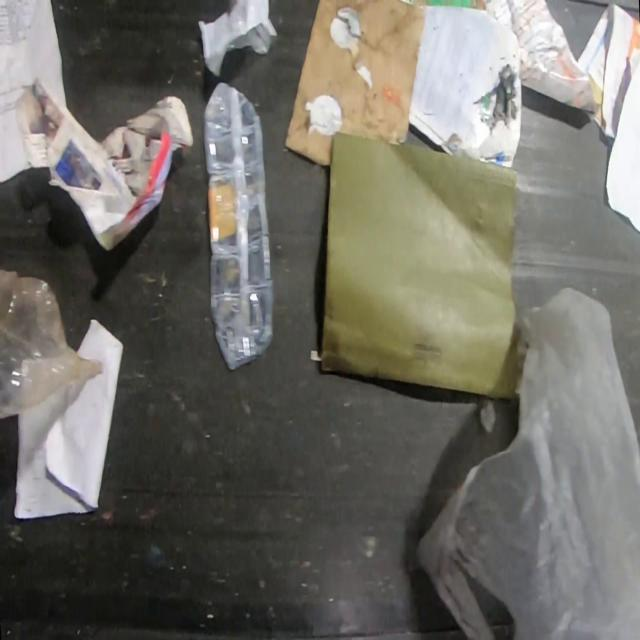cardboard: (318, 132, 522, 400), (284, 0, 426, 168)
rigid_plastic: (203, 83, 274, 371)
soft_plastic: (416, 284, 640, 639), (0, 271, 104, 421)
